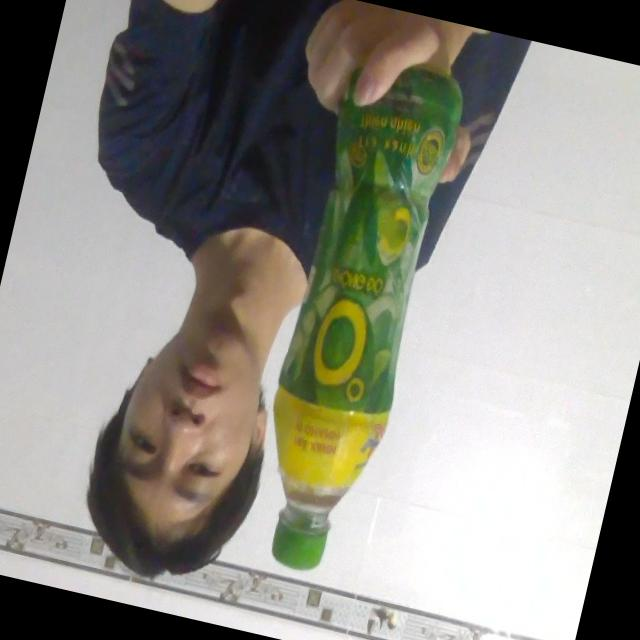tra xanh khong do: (220, 38, 496, 594)
